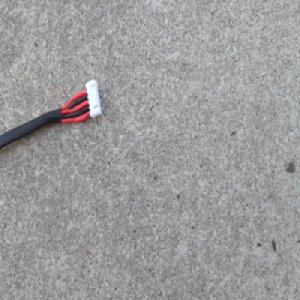Wire: (0, 75, 103, 156)
